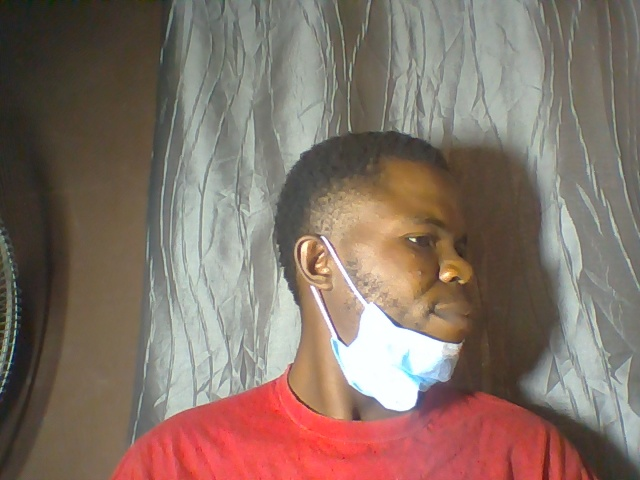MaskOff: (267, 125, 491, 413)
